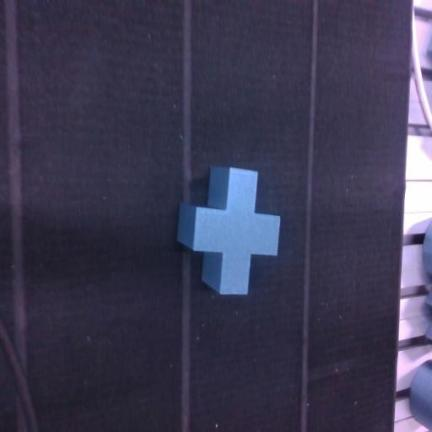cross: (178, 168, 280, 294)
